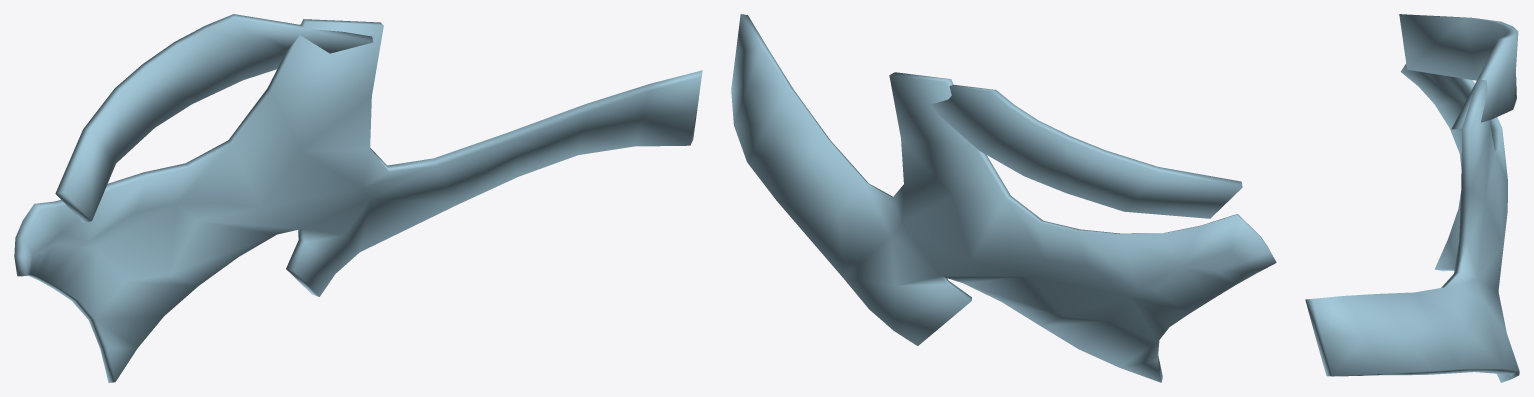
Rendered from articulacoes-dorsal-intercarpal-ligaments-l.glb.
The picture shows the model from 3 angles, left to right: view 1: azimuth 30°, elevation 25°; view 2: azimuth 150°, elevation 25°; view 3: azimuth 270°, elevation 25°; orthographic projection. The views are drawn at different scales.
Parts seen in each view (by area): view 1: Dorsal intercarpal ligaments.l, Dorsal scaphotriquetral ligament.l; view 2: Dorsal intercarpal ligaments.l, Dorsal scaphotriquetral ligament.l; view 3: Dorsal intercarpal ligaments.l, Dorsal scaphotriquetral ligament.l.
Boxes of the visible parts, left/top/right/bottom form: Dorsal intercarpal ligaments.l: left=14, top=19, right=702, bottom=382; Dorsal scaphotriquetral ligament.l: left=55, top=14, right=373, bottom=222; Dorsal intercarpal ligaments.l: left=731, top=14, right=1276, bottom=382; Dorsal scaphotriquetral ligament.l: left=930, top=85, right=1242, bottom=218; Dorsal intercarpal ligaments.l: left=1305, top=63, right=1519, bottom=382; Dorsal scaphotriquetral ligament.l: left=1399, top=14, right=1518, bottom=129.
Bounding box in the file's own units: 0.0389 × 0.0179 × 0.0112.
